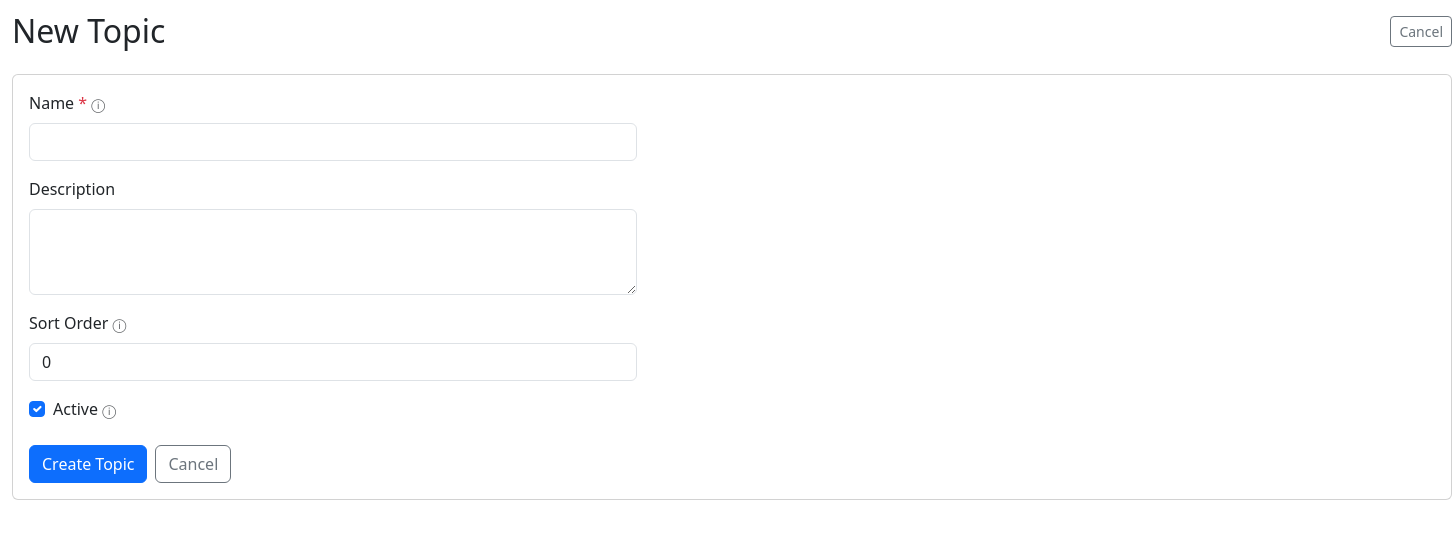
TopicFormPage › Create mode › shows validation error when name is empty on submit
Step 1. Click the button "Create Topic" → (88, 464), box x1=29 y1=445 x2=148 y2=483
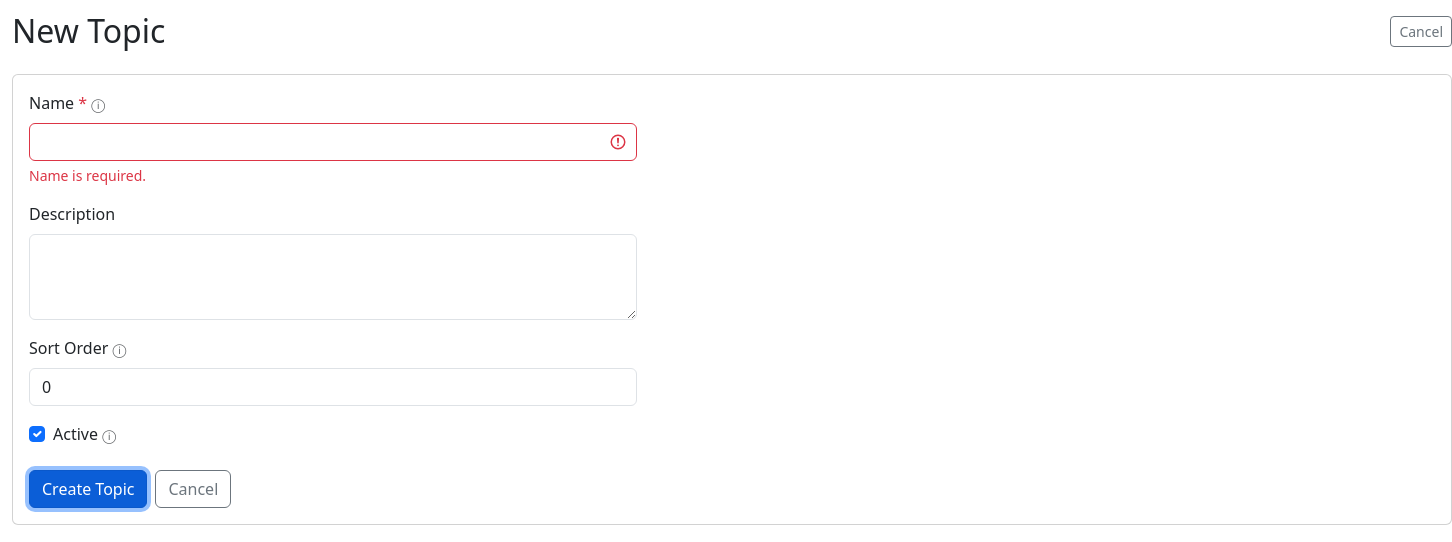
Now the text "Name is required." is shown, box x1=29 y1=166 x2=146 y2=185
